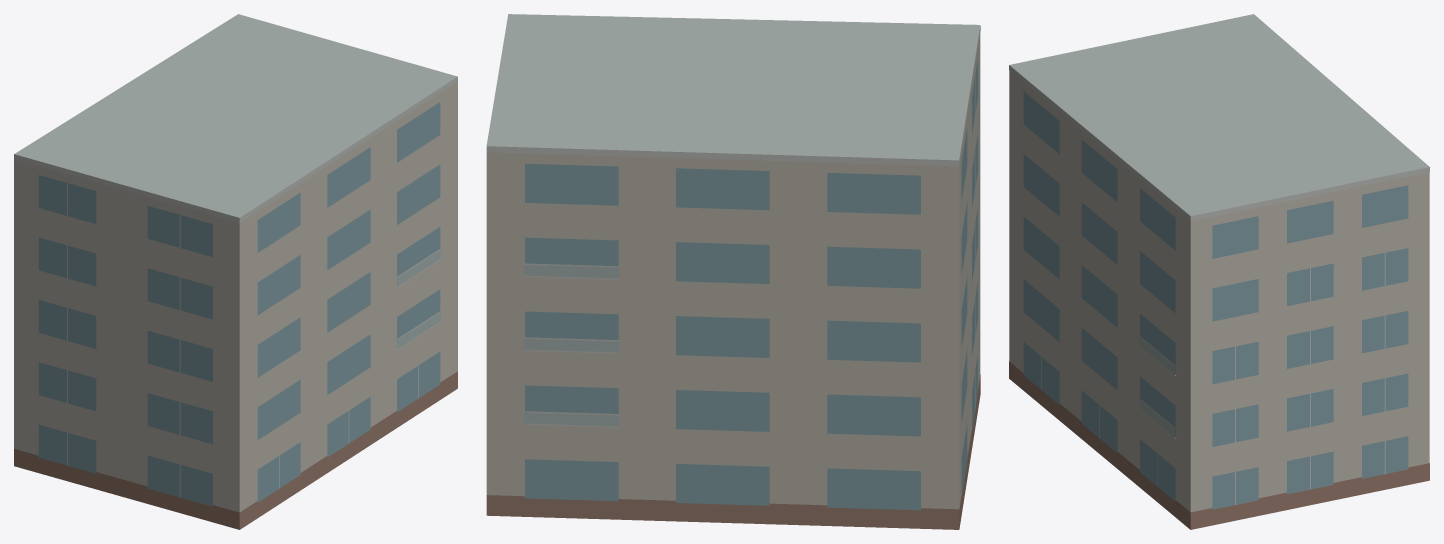
Rendered from survey-upis-32701994.glb.
The picture shows the model from 3 angles, left to right: view 1: azimuth 30°, elevation 25°; view 2: azimuth 150°, elevation 25°; view 3: azimuth 270°, elevation 25°; orthographic projection. The views are drawn at different scales.
Parts seen in each view (by area): view 1: survey-upis-32701994.tmp; view 2: survey-upis-32701994.tmp; view 3: survey-upis-32701994.tmp.
Part boxes in pixels (box(x1,y1,x2,y2)): survey-upis-32701994.tmp: box(14, 14, 457, 529); survey-upis-32701994.tmp: box(486, 14, 980, 529); survey-upis-32701994.tmp: box(1009, 14, 1429, 529).
Size of the model in its own units: 20.48 by 14.8 by 18.
